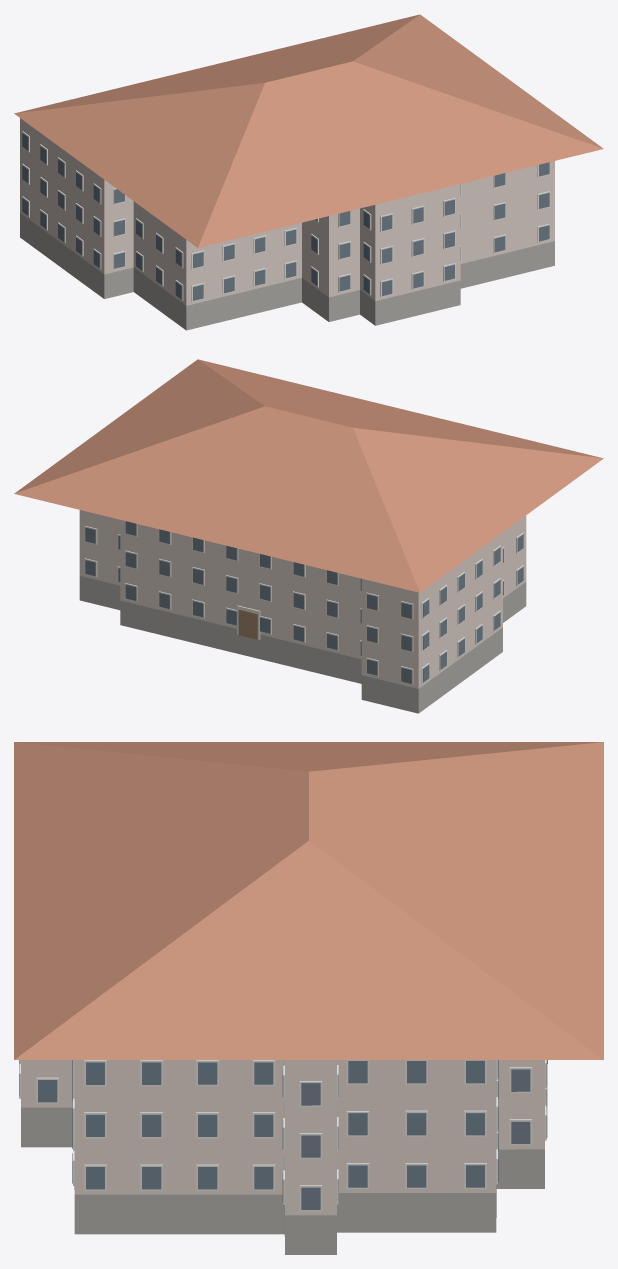
File: civic-kandertalhalle.glb
3 renders of one model, top to bottom at view 1: azimuth 30°, elevation 25°; view 2: azimuth 150°, elevation 25°; view 3: azimuth 270°, elevation 25°, orthographic. The views are drawn at different scales.
Parts seen in each view (by area): view 1: building; view 2: building; view 3: building.
Boxes of the visible parts, box(x1,y1,x2,y2) form: building: box(14, 14, 603, 330); building: box(14, 359, 603, 713); building: box(14, 742, 603, 1254).
Bounding box in the file's own units: 43.11 × 18.5 × 33.79.
